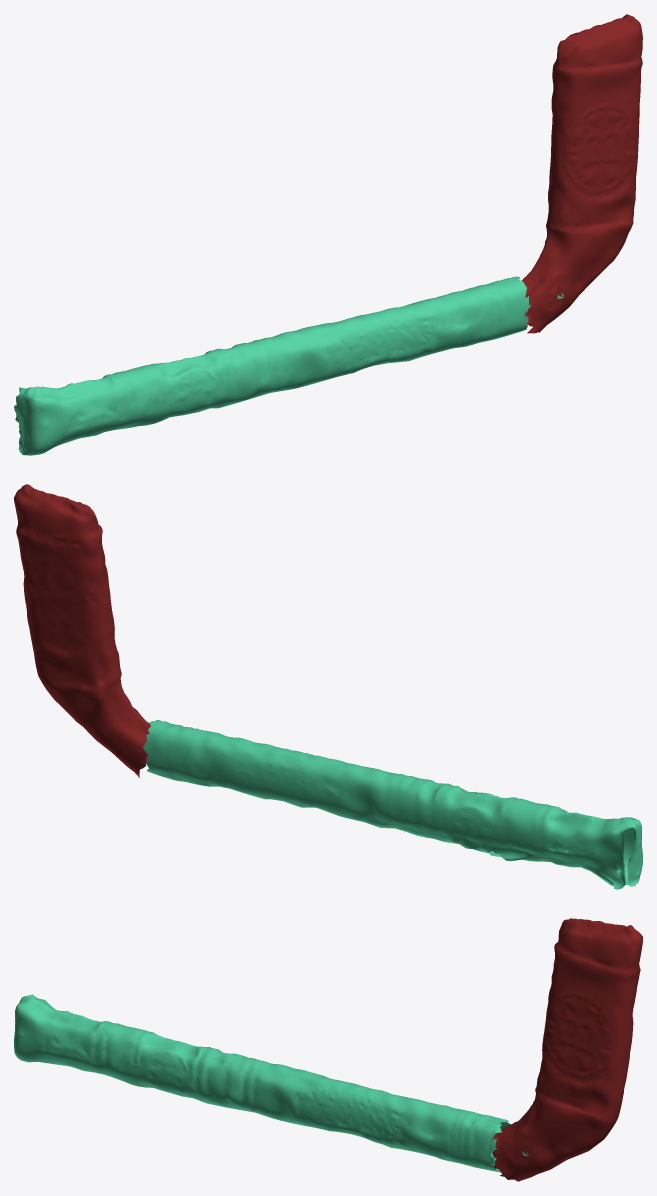
The model's file is object_deformed_3.obj.
3 views of the same model, one above another, from view 1: azimuth 30°, elevation 25°; view 2: azimuth 150°, elevation 25°; view 3: azimuth 330°, elevation 25° (orthographic). The views are drawn at different scales.
Size of the model in its own units: 0.5197 by 0.2233 by 0.0525.
